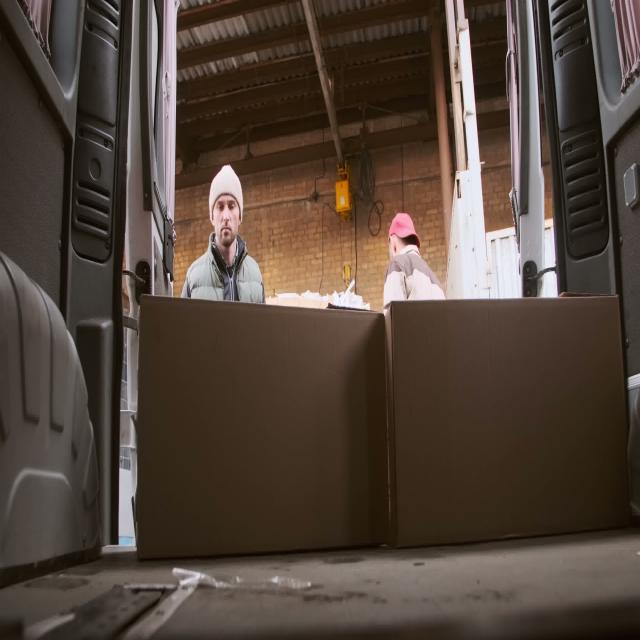counting-the-number-of-boxes: (136, 294, 389, 559), (385, 296, 632, 546)
